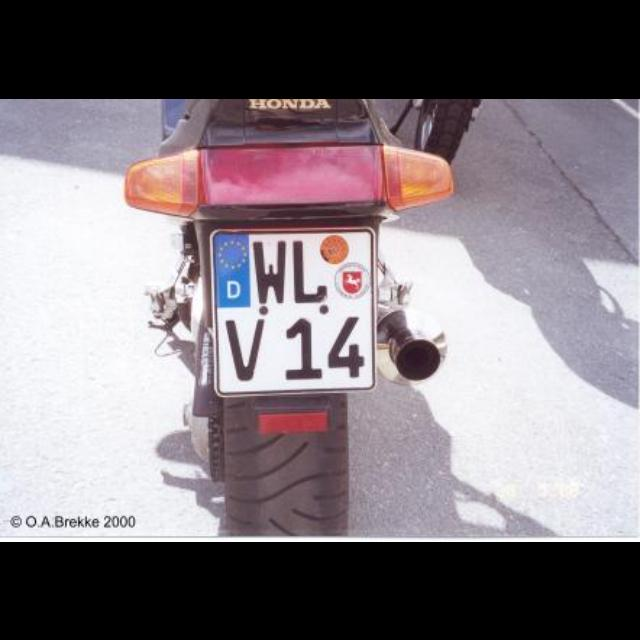d_license_plate: (210, 226, 374, 392)
